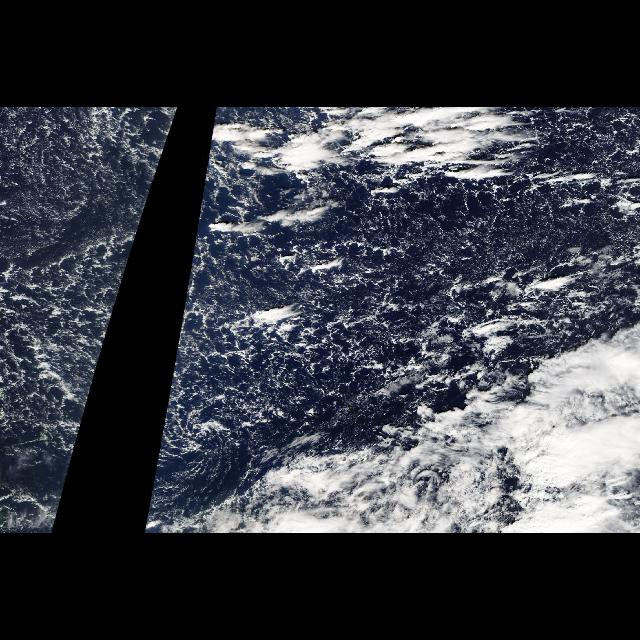Gravel: (158, 118, 554, 454), (1, 108, 176, 454)
